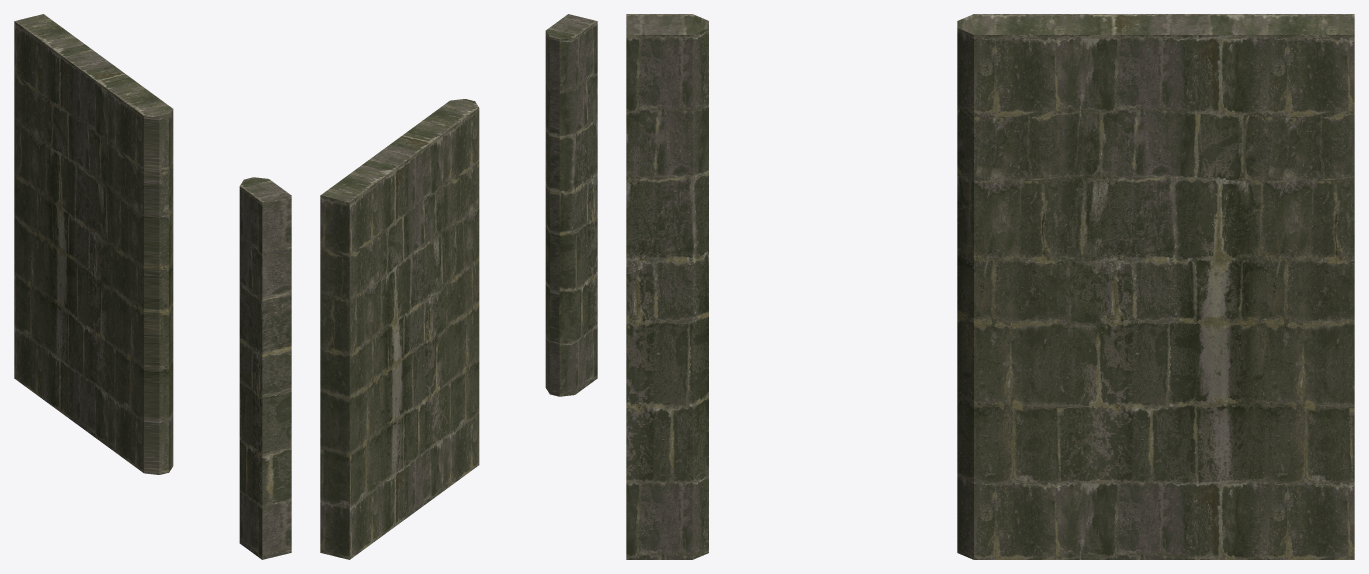
File: Wall_Arch_L_Pier.fbx
3 views of the same model, side by side, from view 1: azimuth 30°, elevation 25°; view 2: azimuth 150°, elevation 25°; view 3: azimuth 270°, elevation 25° (orthographic). The views are drawn at different scales.
Visible parts, largest first — view 1: DoubleDoorway.006; view 2: DoubleDoorway.006; view 3: DoubleDoorway.006.
Boxes of the visible parts, x1,y1,x2,y2 form: DoubleDoorway.006: (14,14,291,559); DoubleDoorway.006: (320,14,597,559); DoubleDoorway.006: (626,14,1354,559).
Size of the model in its own units: 51 by 595 by 748.
